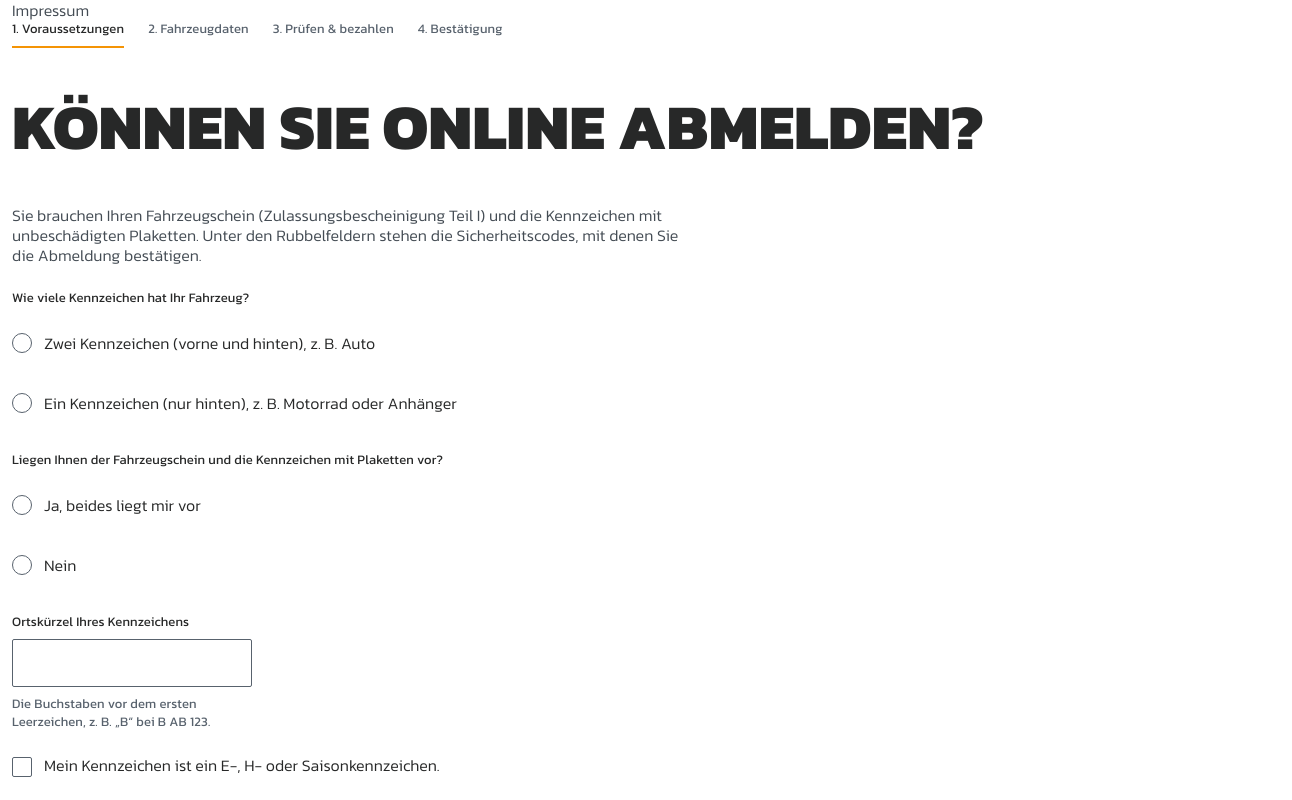
de-registration funnel › eligibility › lets the customer retry when the eligibility request rejects
Click the 1st radio button named "Zwei Kennzeichen" at (22, 343), box left=12, top=333, right=32, bottom=353
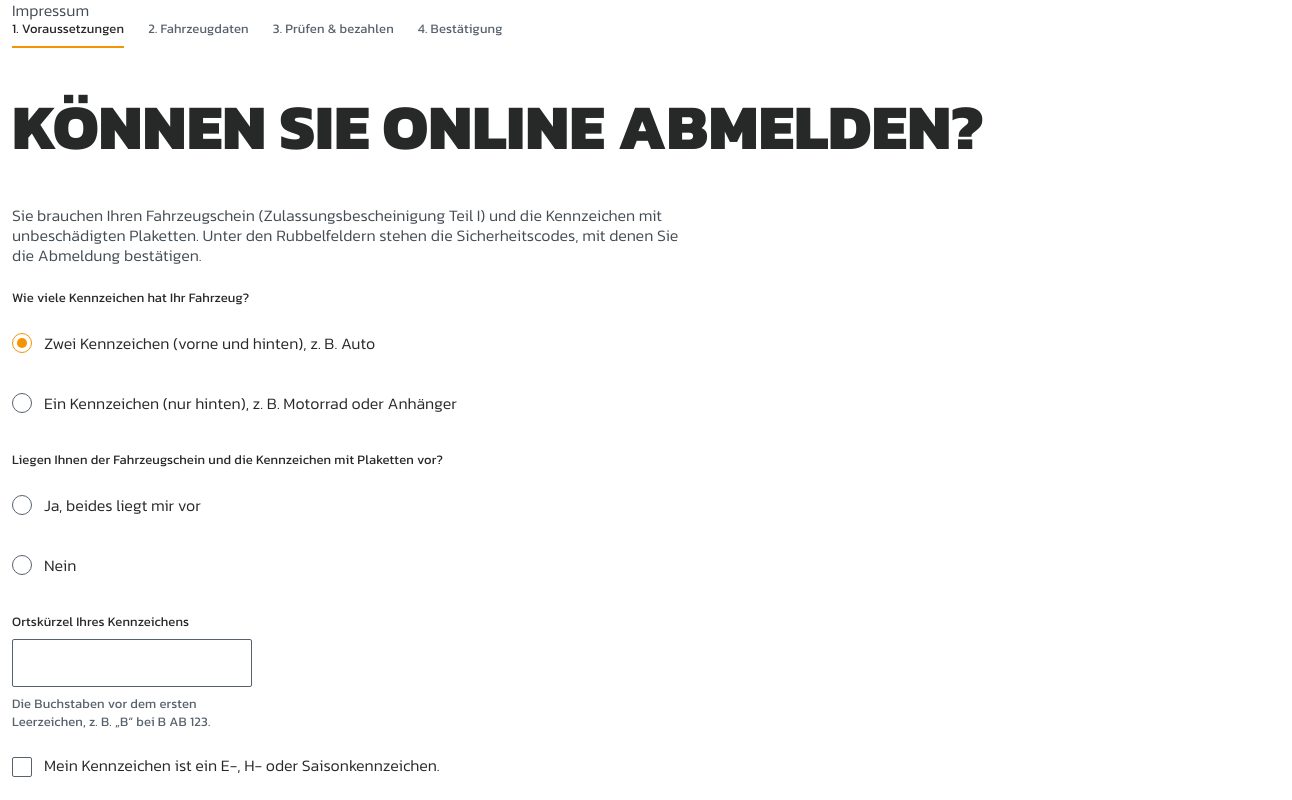
Click the radio button named "Ja, beides liegt mir vor" next to "Ja, beides liegt mir vor" at (22, 505), box left=12, top=495, right=32, bottom=515
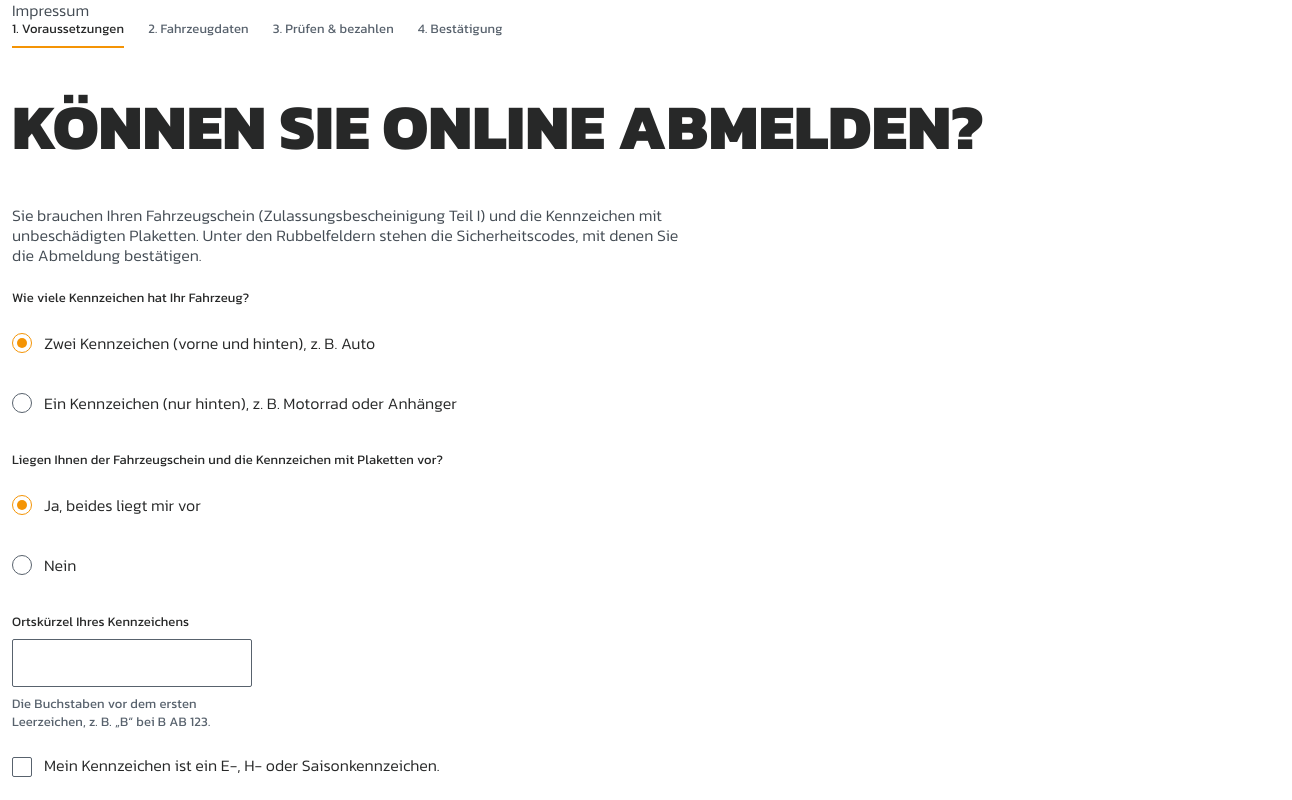
Type "aaa" into the field labelled "Ortskürzel Ihres Kennzeichens" at (132, 663), box left=12, top=639, right=252, bottom=687
(page scrolled)
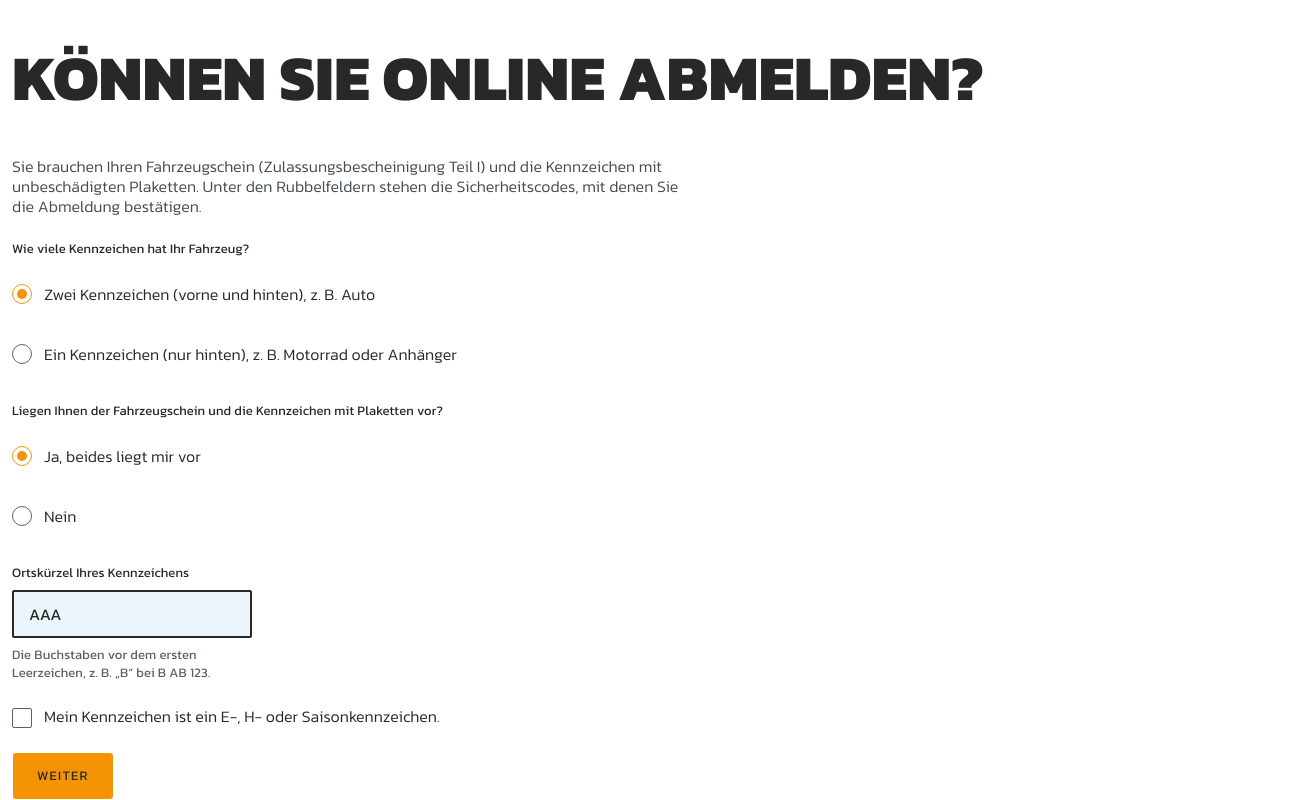
Click the button "Weiter" at (63, 776), box left=12, top=752, right=114, bottom=799
(page scrolled)
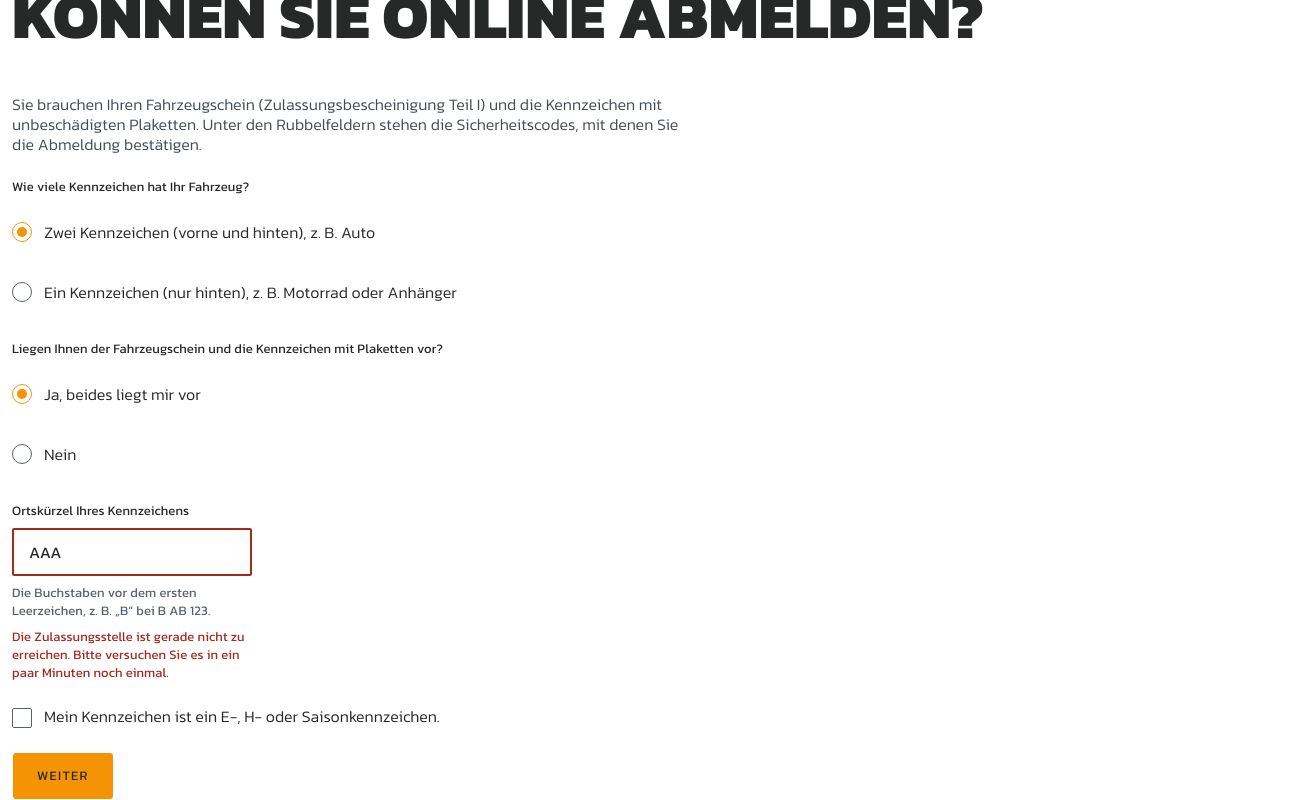
Expected: the text "gerade nicht zu erreichen" is shown, left=12, top=627, right=245, bottom=682
Click the button "Weiter" at (63, 776), box left=12, top=752, right=114, bottom=799
(page scrolled)
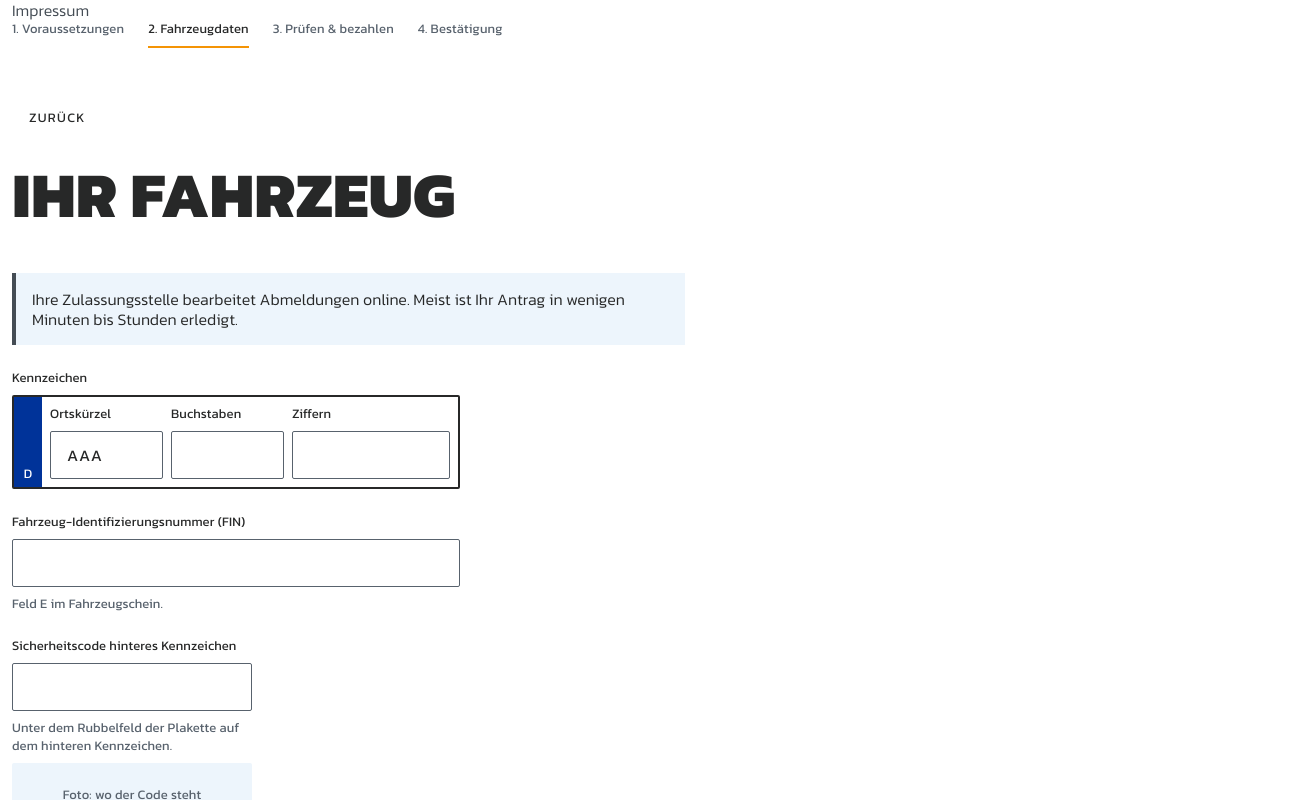
Expected: the heading "Ihr Fahrzeug" is shown, left=12, top=147, right=455, bottom=242
